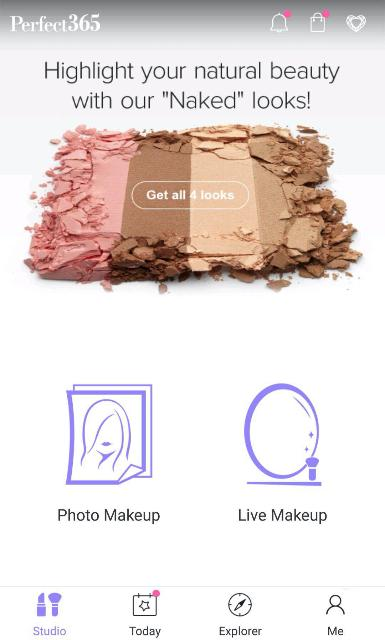Bottom_Navigation: (0, 586, 385, 639)
Icon: (132, 590, 160, 616), (36, 592, 62, 616), (228, 592, 251, 616), (270, 10, 290, 32), (311, 10, 330, 32), (326, 595, 345, 615), (346, 14, 366, 32)
Image: (21, 120, 364, 296), (65, 384, 153, 484), (244, 384, 322, 486)
Text: (45, 61, 340, 109), (10, 13, 100, 32), (58, 508, 160, 524), (239, 508, 327, 524), (220, 626, 262, 638), (129, 626, 161, 638), (32, 626, 66, 636), (328, 626, 344, 636)
TextImageButton: (220, 592, 262, 638), (129, 589, 161, 637), (32, 592, 66, 636), (326, 595, 345, 635)
